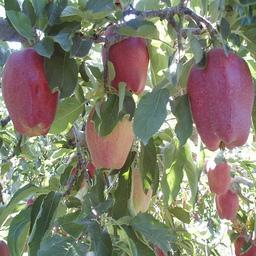apple: (185, 46, 252, 149), (1, 50, 56, 138), (87, 98, 134, 168), (103, 35, 149, 95), (208, 159, 230, 194), (215, 189, 239, 220)
